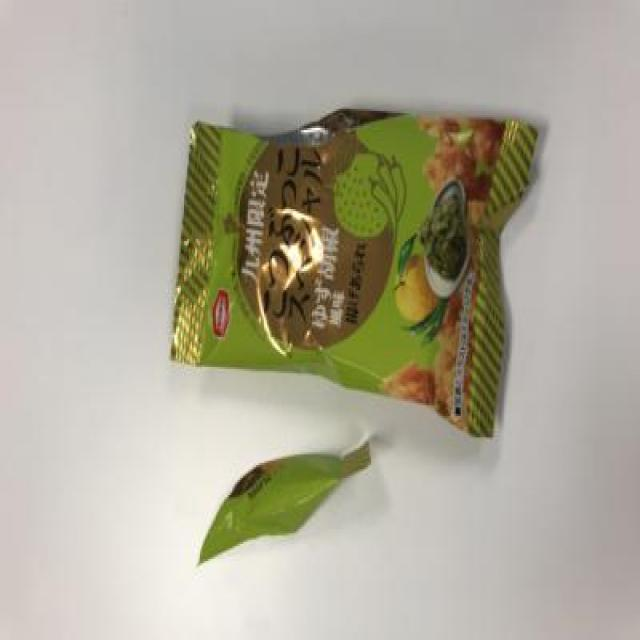trash: (149, 86, 553, 447)
